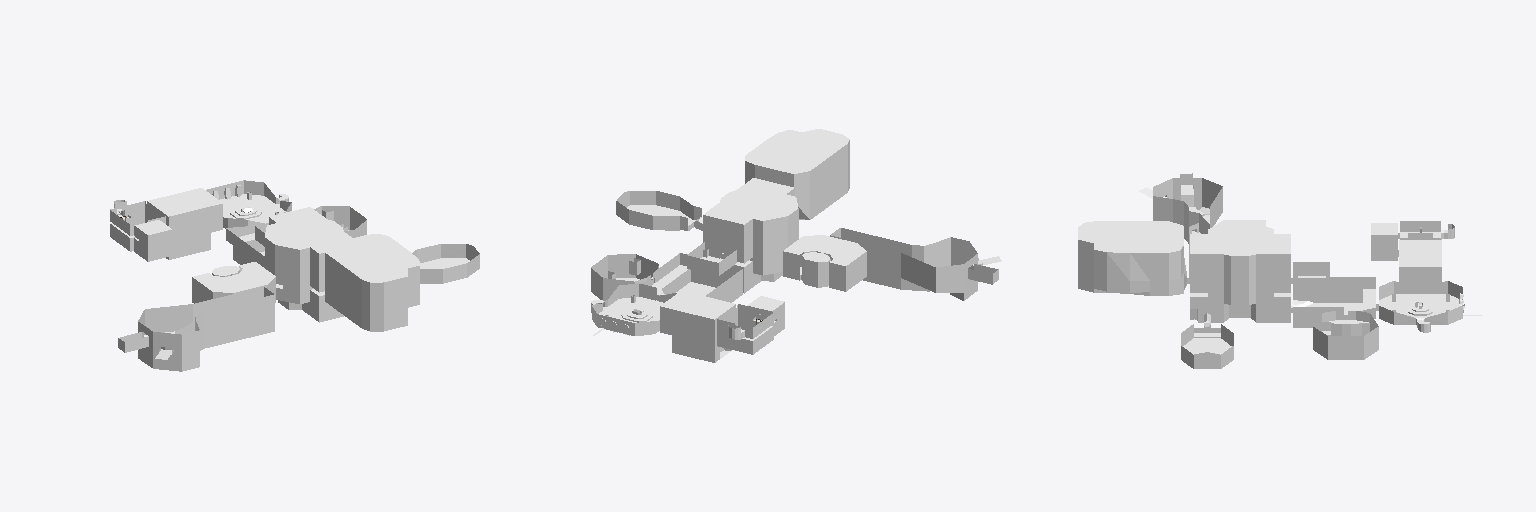
The picture shows the model from 3 angles: view 1: azimuth 30°, elevation 25°; view 2: azimuth 150°, elevation 25°; view 3: azimuth 270°, elevation 25°; orthographic projection.
Parts seen in each view (by area): view 1: Floor2#Collision, Floor2#Collision#Generic#NoCull, Floor2#Collision#Snow; view 2: Floor2#Collision, Floor2#Collision#Generic#NoCull, Floor2#Collision#Snow, Floor2#Collision#Stone; view 3: Floor2#Collision, Floor2#Collision#Generic#NoCull, Floor2#Collision#Snow, Floor2#Collision#Stone.
Part boxes in pixels (x1,y1,x2,y2): Floor2#Collision: (110, 180, 479, 371); Floor2#Collision#Generic#NoCull: (135, 188, 419, 292); Floor2#Collision#Snow: (144, 194, 469, 336); Floor2#Collision: (591, 140, 998, 362); Floor2#Collision#Generic#NoCull: (661, 129, 866, 319); Floor2#Collision#Snow: (599, 205, 801, 322); Floor2#Collision#Stone: (616, 220, 823, 321); Floor2#Collision: (1078, 173, 1464, 368); Floor2#Collision#Generic#NoCull: (1078, 220, 1441, 266); Floor2#Collision#Snow: (1183, 207, 1458, 354); Floor2#Collision#Stone: (1192, 231, 1440, 336).
Size of the model in its own units: 7177 by 1557 by 6945.
3 materials, 1 textured.